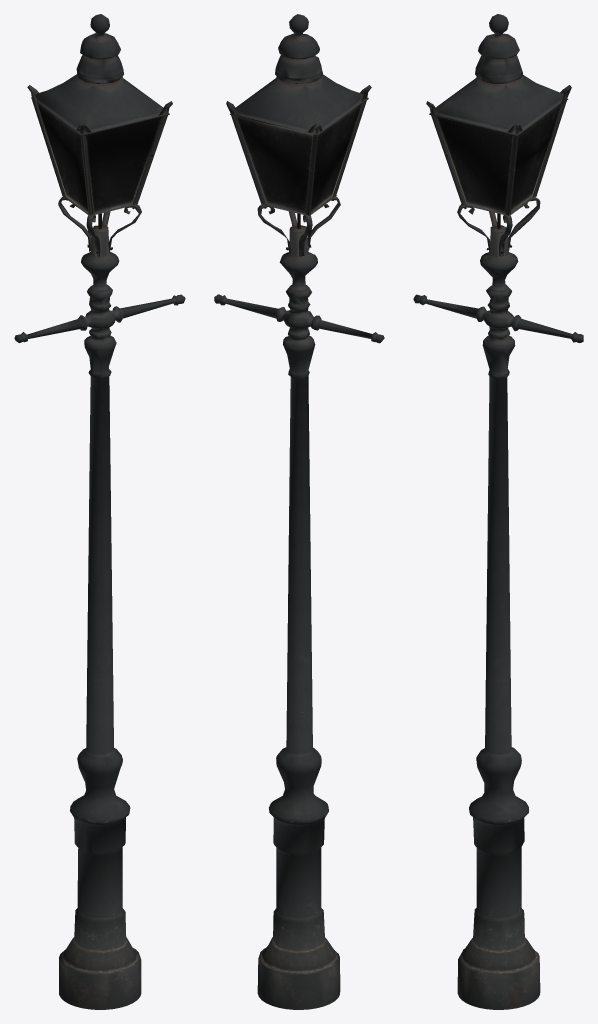
File: street_lamp_01.glb
3 views of the same model, side by side, from view 1: azimuth 30°, elevation 25°; view 2: azimuth 150°, elevation 25°; view 3: azimuth 330°, elevation 25° (orthographic).
Visible parts, largest first — view 1: street_lamp_01; view 2: street_lamp_01; view 3: street_lamp_01.
Part boxes in pixels (x1=…): street_lamp_01: x1=14, y1=14, x2=185, y2=1009; street_lamp_01: x1=214, y1=14, x2=384, y2=1009; street_lamp_01: x1=413, y1=14, x2=583, y2=1009.
Size of the model in its own units: 0.7011 by 3.87 by 0.3855.
2 materials, 2 textured.
